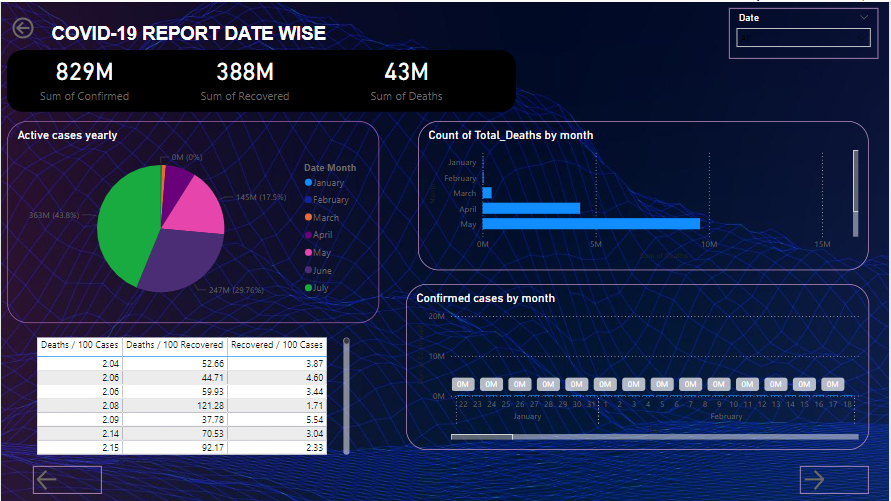

This screenshot's page, from the dashboard's own definition file:
{"tool":"powerbi","page":{"name":"COVID-19 REPORT DATE WISE","canvas":[1280,720],"ordinal":1},"visuals":[{"type":"pieChart","title":"Active cases yearly","fields":{"Y":["Sum(day_wise.Confirmed)"],"Category":["day_wise.Date.Variation.Date Hierarchy.Month"]},"box":[8.6,171.4,535.7,290.9],"z":0},{"type":"lineStackedColumnComboChart","title":"Confirmed cases by month","fields":{"Category":["day_wise.Date.Variation.Date Hierarchy.Month","day_wise.Date.Variation.Date Hierarchy.Day"],"Y":["Sum(day_wise.Confirmed)"]},"box":[583.2,406.1,666.7,239],"z":1000},{"type":"tableEx","fields":{"Values":["day_wise.Deaths / 100 Cases","day_wise.Deaths / 100 Recovered","day_wise.Recovered / 100 Cases"]},"box":[46.1,478.1,460.8,178.6],"z":2000},{"type":"textbox","box":[67.7,25.9,587.5,61.9],"z":3000},{"type":"shape","box":[8.6,69.1,733,89.3],"z":4000},{"type":"card","fields":{"Values":["Sum(day_wise.Confirmed)"]},"box":[11.3,58.2,217.4,100.8],"z":5000},{"type":"card","fields":{"Values":["Sum(day_wise.Deaths)"]},"box":[475,58.2,217.4,100.8],"z":6000},{"type":"card","fields":{"Values":["Sum(day_wise.Recovered)"]},"box":[241.7,58.2,218.9,100.8],"z":7000},{"type":"slicer","fields":{"Values":["day_wise.Date"]},"box":[1048.3,8.6,214.6,73.4],"z":8000},{"type":"barChart","title":"Count of Total_Deaths by month","fields":{"Y":["Sum(day_wise.Deaths)"],"Category":["day_wise.Date.Variation.Date Hierarchy.Month","day_wise.Date.Variation.Date Hierarchy.Day"]},"box":[600.5,171.4,649.4,214.6],"z":9000},{"type":"actionButton","box":[11.5,17.3,57.6,40.3],"z":10000},{"type":"actionButton","box":[1150.6,668.2,99.4,40.3],"z":11000},{"type":"actionButton","box":[46.1,668.2,99.4,40.3],"z":12000}]}

Visuals, with their boxes in screenshot pixels (x1, y1, x2, y2), scaled from the page's 1280x720 canvas onto the 891x501 screenshot:
"Active cases yearly" pieChart: (x1=6, y1=119, x2=379, y2=322)
"Confirmed cases by month" lineStackedColumnComboChart: (x1=406, y1=283, x2=870, y2=449)
tableEx - day_wise.Deaths / 100 Cases x day_wise.Deaths / 100 Recovered: (x1=32, y1=333, x2=353, y2=457)
textbox: (x1=47, y1=18, x2=456, y2=61)
shape: (x1=6, y1=48, x2=516, y2=110)
card - Sum(day_wise.Confirmed): (x1=8, y1=40, x2=159, y2=111)
card - Sum(day_wise.Deaths): (x1=331, y1=40, x2=482, y2=111)
card - Sum(day_wise.Recovered): (x1=168, y1=40, x2=321, y2=111)
slicer - day_wise.Date: (x1=730, y1=6, x2=879, y2=57)
"Count of Total_Deaths by month" barChart: (x1=418, y1=119, x2=870, y2=269)
actionButton: (x1=8, y1=12, x2=48, y2=40)
actionButton: (x1=801, y1=465, x2=870, y2=493)
actionButton: (x1=32, y1=465, x2=101, y2=493)
